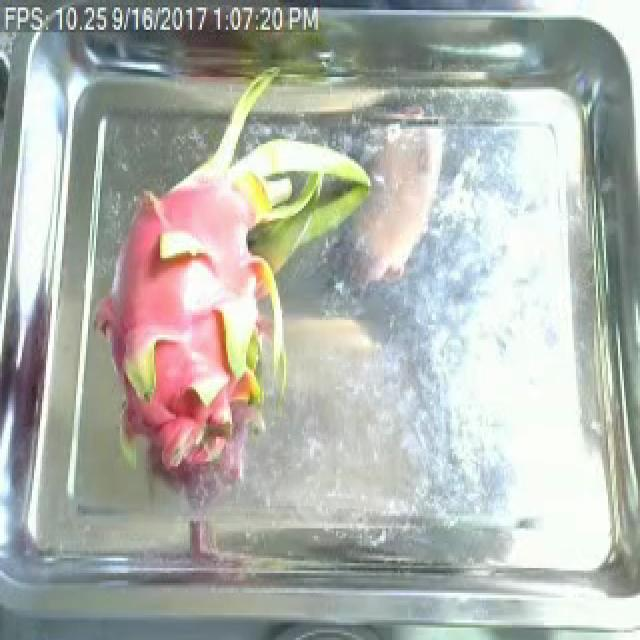fruit: (78, 84, 364, 506)
